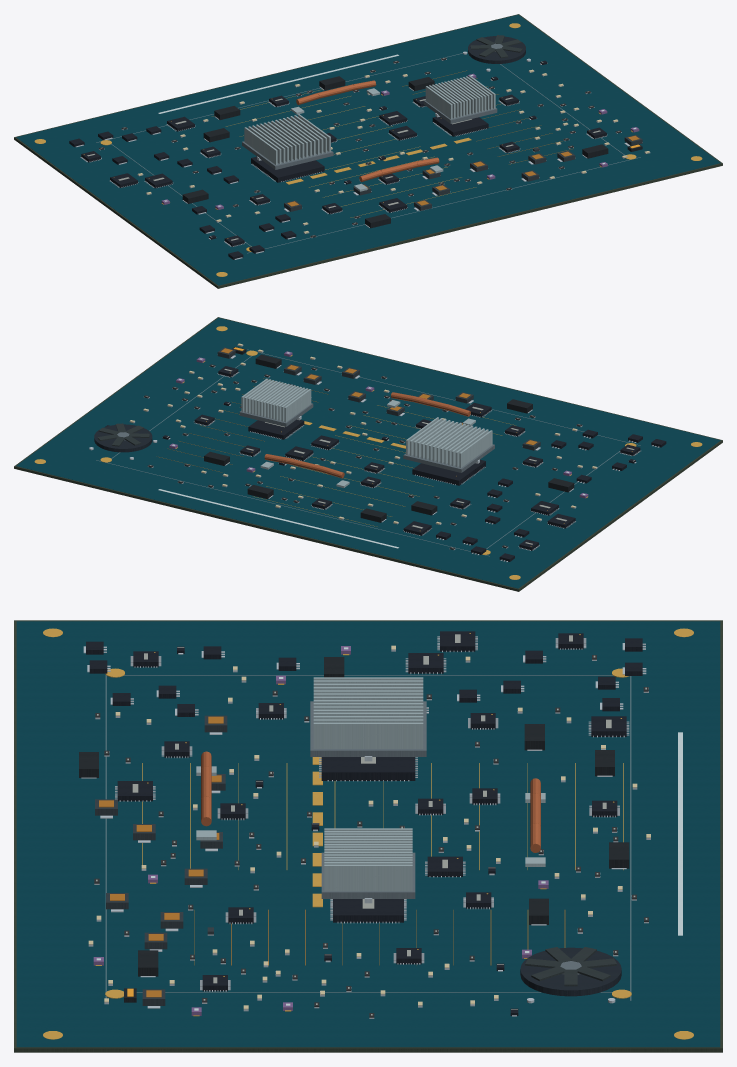
File: 225_L114_AssembledReference.obj
3 renders of one model, top to bottom at view 1: azimuth 30°, elevation 25°; view 2: azimuth 150°, elevation 25°; view 3: azimuth 270°, elevation 25°, orthographic. The views are drawn at different scales.
Parts seen in each view (by area): view 1: 225_L114_AssembledReference__PSMAT__Soldermask_Teal, 225_L114_AssembledReference__PSMAT__Black_Epoxy, 225_L114_AssembledReference__PSMAT__Aluminum_Bare, 225_L114_AssembledReference__PSMAT__FR4_Core, 225_L114_AssembledReference__PSMAT__Tin_Solder, 225_L114_AssembledReference__PSMAT__Connector_Polymer, 225_L114_AssembledReference__PSMAT__Gold_ENIG, 225_L114_AssembledReference__PSMAT__Ferrite_Slate, 225_L114_AssembledReference__PSMAT__Copper_VaporChamber, 225_L114_AssembledReference__PSMAT__Aluminum_Anodized, 225_L114_AssembledReference__PSMAT__Trace_Matte, 225_L114_AssembledReference__PSMAT__Fan_Black (+6 smaller); view 2: 225_L114_AssembledReference__PSMAT__Soldermask_Teal, 225_L114_AssembledReference__PSMAT__Black_Epoxy, 225_L114_AssembledReference__PSMAT__Aluminum_Bare, 225_L114_AssembledReference__PSMAT__FR4_Core, 225_L114_AssembledReference__PSMAT__Connector_Polymer, 225_L114_AssembledReference__PSMAT__Tin_Solder, 225_L114_AssembledReference__PSMAT__Gold_ENIG, 225_L114_AssembledReference__PSMAT__Copper_VaporChamber, 225_L114_AssembledReference__PSMAT__Ferrite_Slate, 225_L114_AssembledReference__PSMAT__Aluminum_Anodized, 225_L114_AssembledReference__PSMAT__Trace_Matte, 225_L114_AssembledReference__PSMAT__Fan_Black (+6 smaller); view 3: 225_L114_AssembledReference__PSMAT__Soldermask_Teal, 225_L114_AssembledReference__PSMAT__Black_Epoxy, 225_L114_AssembledReference__PSMAT__Aluminum_Bare, 225_L114_AssembledReference__PSMAT__FR4_Core, 225_L114_AssembledReference__PSMAT__Tin_Solder, 225_L114_AssembledReference__PSMAT__Connector_Polymer, 225_L114_AssembledReference__PSMAT__Gold_ENIG, 225_L114_AssembledReference__PSMAT__Ferrite_Slate, 225_L114_AssembledReference__PSMAT__Aluminum_Anodized, 225_L114_AssembledReference__PSMAT__Fan_Black, 225_L114_AssembledReference__PSMAT__Trace_Matte, 225_L114_AssembledReference__PSMAT__Fan_Rubber (+7 smaller).
Boxes of the visible parts, <box> form: 225_L114_AssembledReference__PSMAT__Soldermask_Teal: <box>16,14,720,285</box>; 225_L114_AssembledReference__PSMAT__Black_Epoxy: <box>69,60,606,259</box>; 225_L114_AssembledReference__PSMAT__Aluminum_Bare: <box>244,75,495,191</box>; 225_L114_AssembledReference__PSMAT__FR4_Core: <box>14,14,722,288</box>; 225_L114_AssembledReference__PSMAT__Tin_Solder: <box>75,51,650,259</box>; 225_L114_AssembledReference__PSMAT__Connector_Polymer: <box>182,76,642,228</box>; 225_L114_AssembledReference__PSMAT__Gold_ENIG: <box>34,23,702,276</box>; 225_L114_AssembledReference__PSMAT__Ferrite_Slate: <box>284,135,642,211</box>; 225_L114_AssembledReference__PSMAT__Copper_VaporChamber: <box>296,80,439,181</box>; 225_L114_AssembledReference__PSMAT__Aluminum_Anodized: <box>242,43,502,169</box>; 225_L114_AssembledReference__PSMAT__Trace_Matte: <box>96,52,640,253</box>; 225_L114_AssembledReference__PSMAT__Fan_Black: <box>468,36,525,63</box>; 225_L114_AssembledReference__PSMAT__Soldermask_Teal: <box>16,317,720,588</box>; 225_L114_AssembledReference__PSMAT__Black_Epoxy: <box>105,366,666,561</box>; 225_L114_AssembledReference__PSMAT__Aluminum_Bare: <box>241,378,492,487</box>; 225_L114_AssembledReference__PSMAT__FR4_Core: <box>14,317,722,591</box>; 225_L114_AssembledReference__PSMAT__Connector_Polymer: <box>204,347,574,522</box>; 225_L114_AssembledReference__PSMAT__Tin_Solder: <box>89,344,659,562</box>; 225_L114_AssembledReference__PSMAT__Gold_ENIG: <box>34,326,702,579</box>; 225_L114_AssembledReference__PSMAT__Copper_VaporChamber: <box>264,392,470,478</box>; 225_L114_AssembledReference__PSMAT__Ferrite_Slate: <box>217,347,540,450</box>; 225_L114_AssembledReference__PSMAT__Aluminum_Anodized: <box>117,403,494,472</box>; 225_L114_AssembledReference__PSMAT__Trace_Matte: <box>96,349,640,556</box>; 225_L114_AssembledReference__PSMAT__Fan_Black: <box>94,424,152,452</box>; 225_L114_AssembledReference__PSMAT__Soldermask_Teal: <box>16,621,720,1047</box>; 225_L114_AssembledReference__PSMAT__Black_Epoxy: <box>86,631,642,1015</box>; 225_L114_AssembledReference__PSMAT__Aluminum_Bare: <box>196,677,545,891</box>; 225_L114_AssembledReference__PSMAT__FR4_Core: <box>14,620,722,1052</box>; 225_L114_AssembledReference__PSMAT__Tin_Solder: <box>81,636,650,1018</box>; 225_L114_AssembledReference__PSMAT__Connector_Polymer: <box>79,657,629,1002</box>; 225_L114_AssembledReference__PSMAT__Gold_ENIG: <box>43,628,693,1039</box>; 225_L114_AssembledReference__PSMAT__Ferrite_Slate: <box>95,715,227,1005</box>; 225_L114_AssembledReference__PSMAT__Aluminum_Anodized: <box>310,701,581,974</box>; 225_L114_AssembledReference__PSMAT__Fan_Black: <box>520,947,621,996</box>; 225_L114_AssembledReference__PSMAT__Trace_Matte: <box>105,675,631,1000</box>; 225_L114_AssembledReference__PSMAT__Fan_Rubber: <box>525,947,616,986</box>.
Bounding box in the file's own units: 0.4 × 0.0303 × 0.28.
21 materials, 21 textured.
